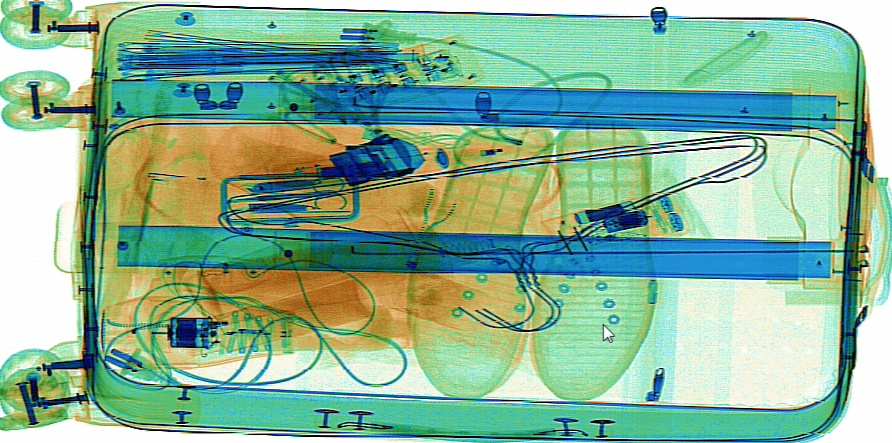scissors: (239, 173, 354, 211)
